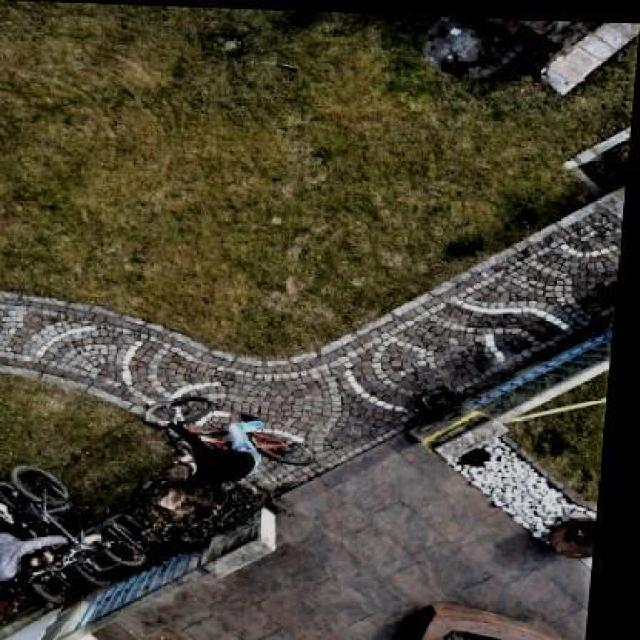Person: (153, 410, 279, 485), (0, 528, 91, 588)
